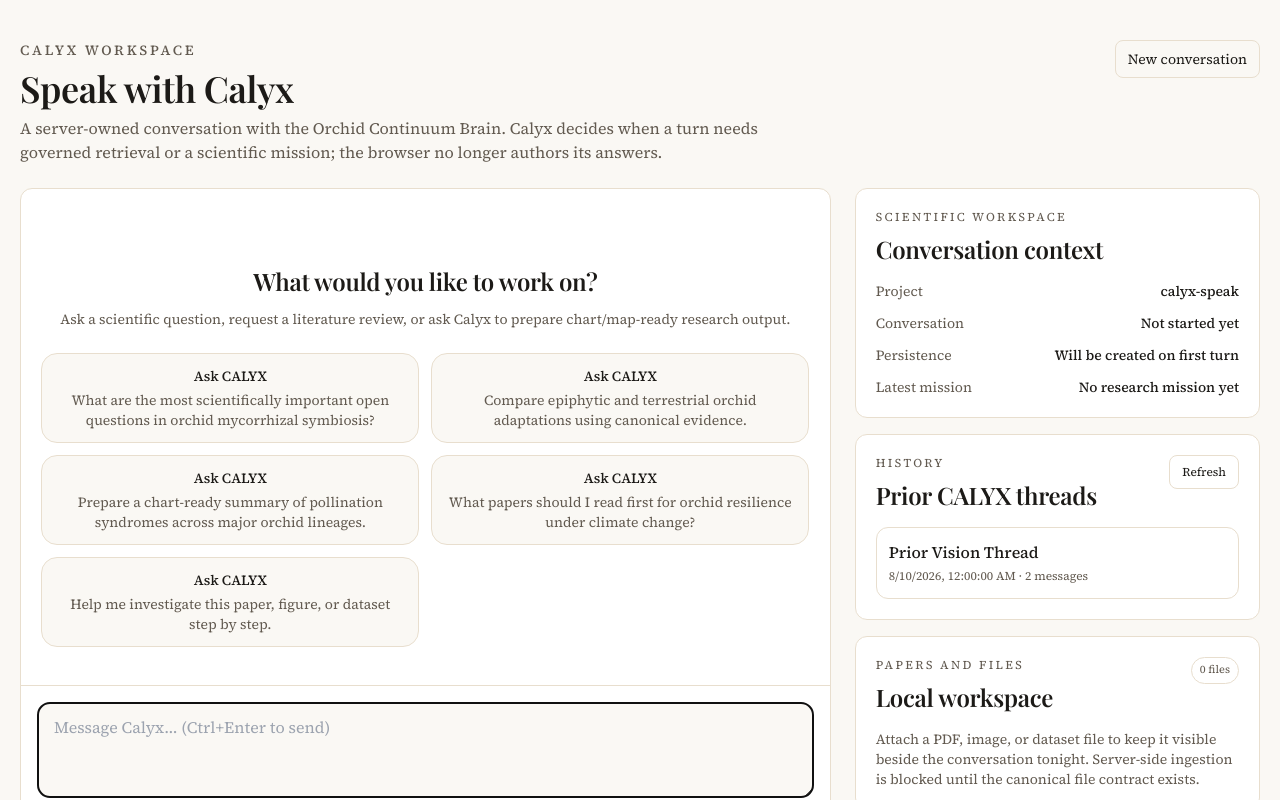
Test case: CalyxWorkspace conversation lifecycle › loads a selected prior conversation from history
Step 1. Click the button "Prior Vision Thread 8/10/2026, 12:00:00 AM · 2 messages" → (964, 552), box [889, 540, 1226, 584]
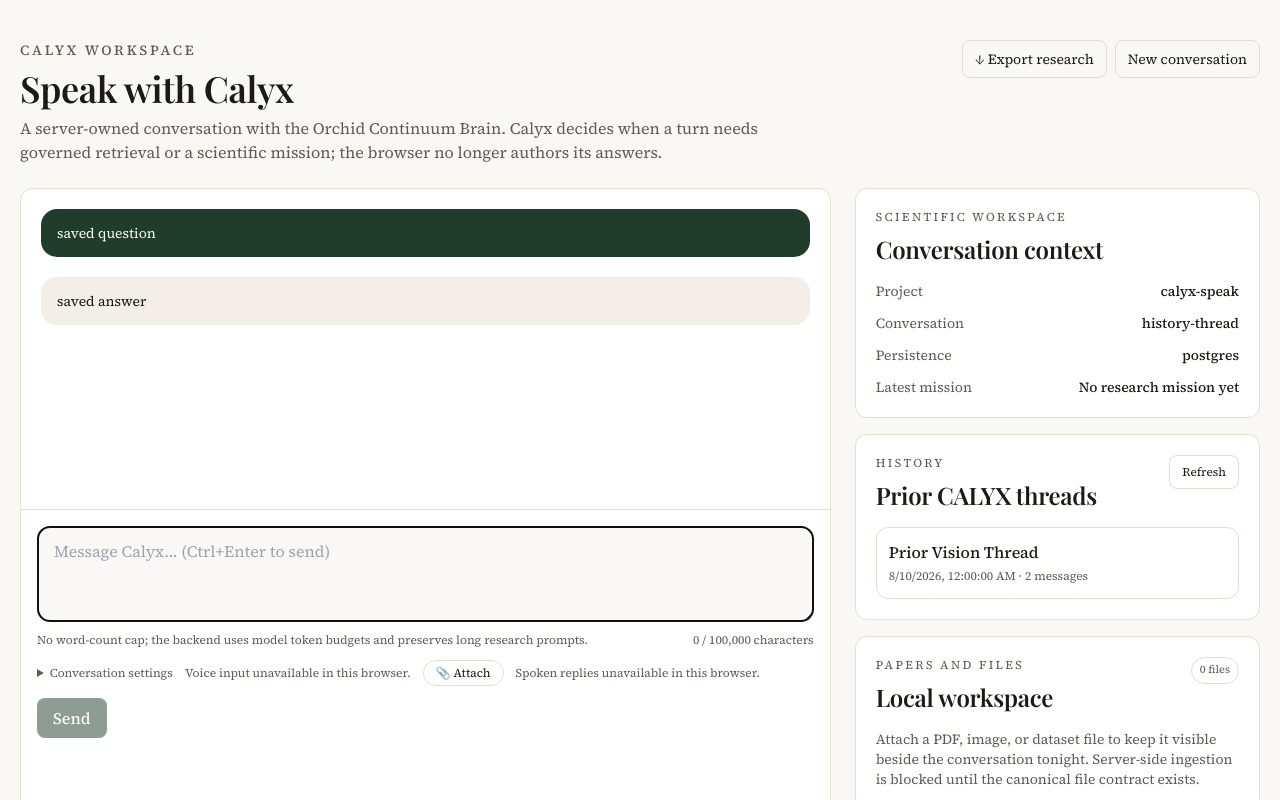
Check: the text "saved answer" is shown, box [57, 291, 146, 311]
Check: the text "history-thread" is shown, box [1142, 313, 1239, 333]
